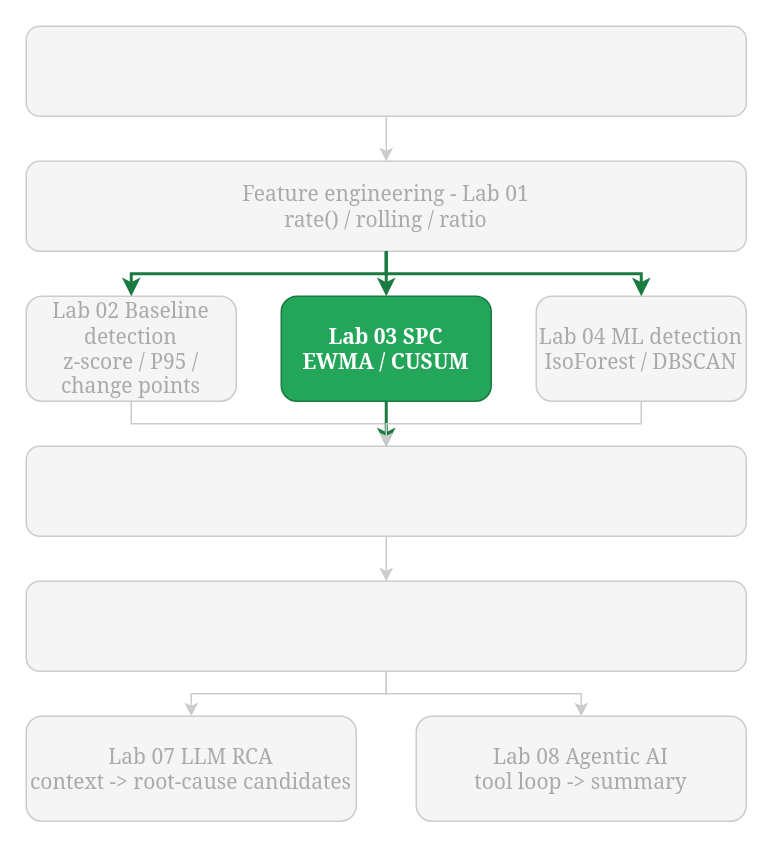
Some shapes in this 773 by 848 pixel diagram are drawn without their labels. Each missing label, with the centre of its shape:
"Alert reduction - Lab 05 correlation / deduplication" belongs at (385,490).
"Collection layer - Lab 00 Prometheus + Grafana" belongs at (385,70).
"forecasting layer - Lab 06 SARIMA / LSTM" belongs at (385,625).
